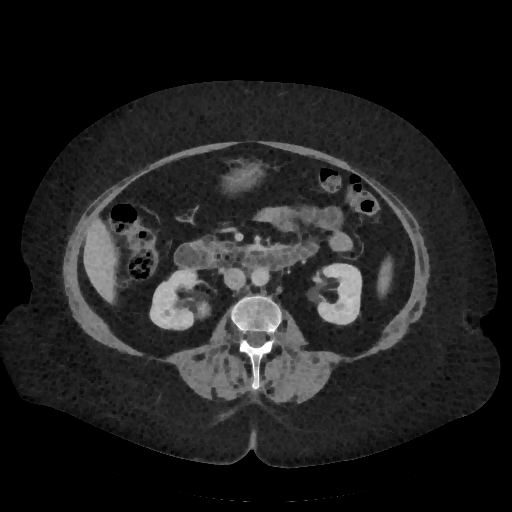Lesion: (162, 308, 172, 318)
